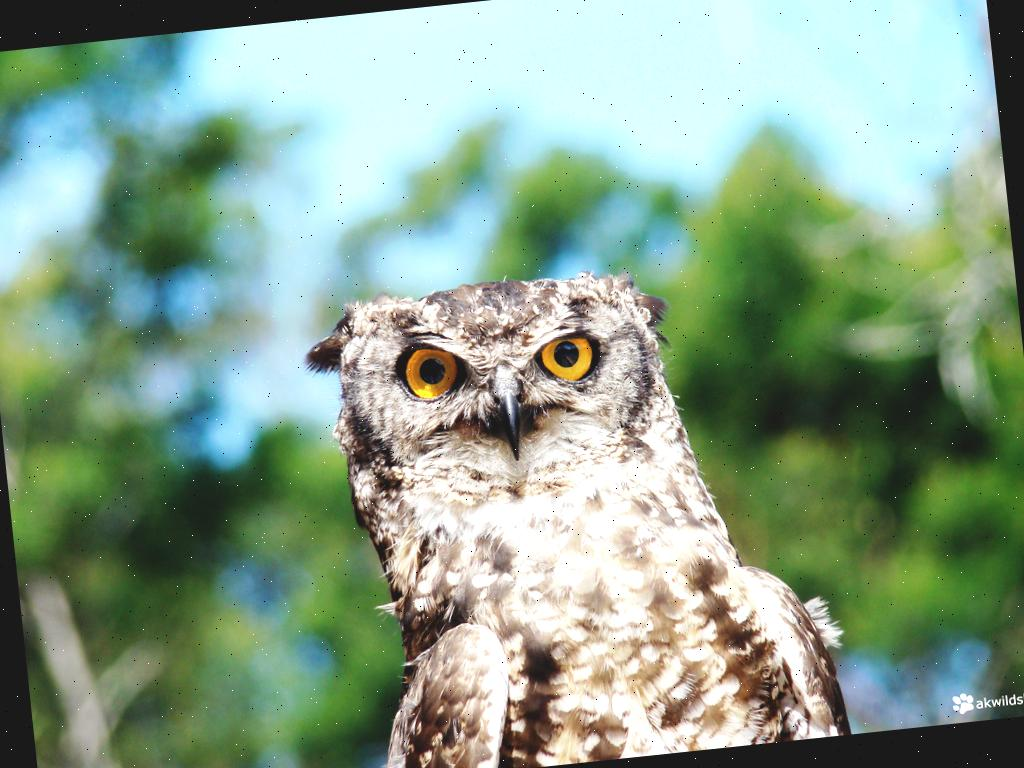Owl: (296, 253, 853, 768)
